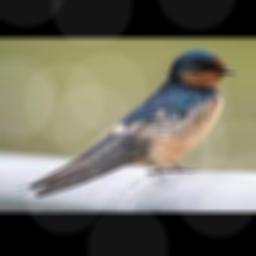Swallow: (16, 48, 234, 197)
